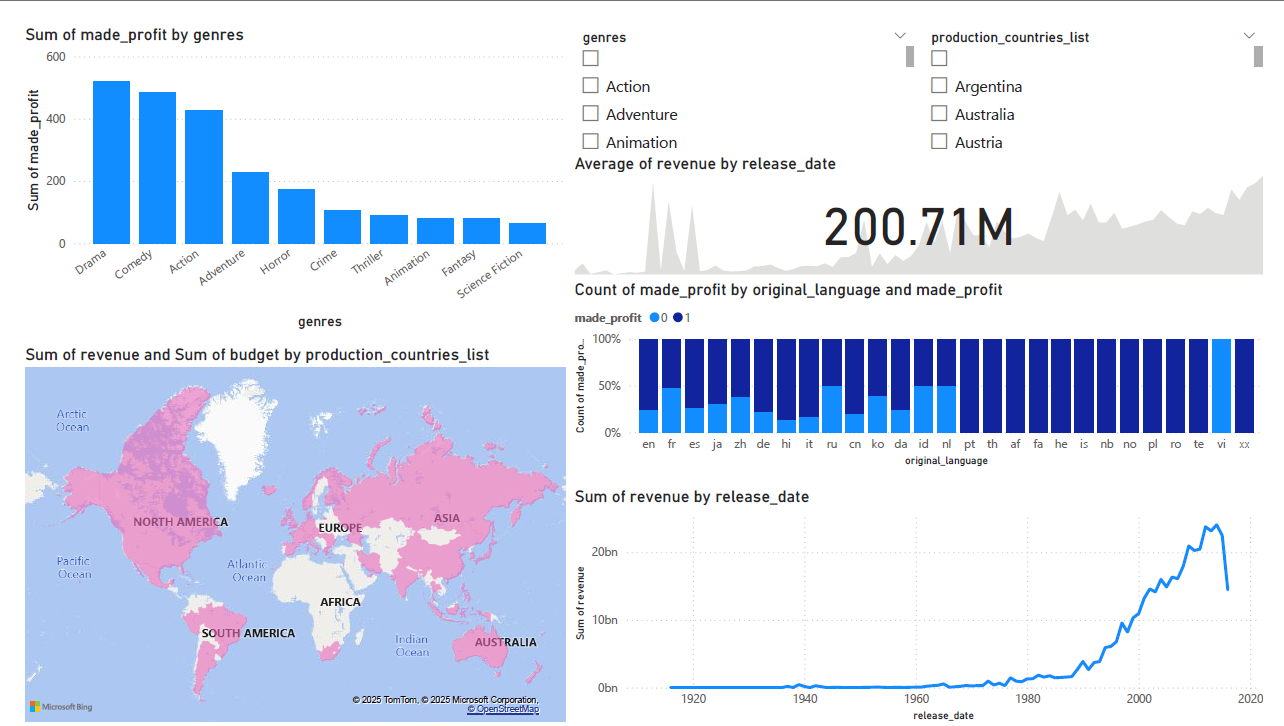

What the dashboard file says about the page in this screenshot:
{"tool":"powerbi","page":{"name":"Page 1","canvas":[1280,720],"ordinal":0},"visuals":[{"type":"clusteredColumnChart","fields":{"Y":["Sum(final_movies_dashboard_dataset.made_profit)"],"Category":["final_movies_dashboard_dataset.genres"]},"box":[0,0,564,318],"z":0},{"type":"filledMap","fields":{"Category":["final_movies_dashboard_dataset.production_countries_list"]},"box":[0,328,564,392],"z":1000},{"type":"hundredPercentStackedColumnChart","fields":{"Category":["final_movies_dashboard_dataset.original_language"],"Y":["CountNonNull(final_movies_dashboard_dataset.made_profit)"],"Series":["final_movies_dashboard_dataset.made_profit"]},"box":[564,262,716,196],"z":2000},{"type":"lineChart","fields":{"Category":["final_movies_dashboard_dataset.release_date"],"Y":["Sum(final_movies_dashboard_dataset.revenue)"]},"box":[564,474,716,246],"z":3000},{"type":"slicer","fields":{"Values":["final_movies_dashboard_dataset.genres"]},"box":[564,0,358,132],"z":4000},{"type":"slicer","fields":{"Values":["final_movies_dashboard_dataset.production_countries_list"]},"box":[922,0,358,132],"z":4001},{"type":"kpi","fields":{"Indicator":["Avg(final_movies_dashboard_dataset.revenue)"],"TrendLine":["final_movies_dashboard_dataset.release_date"]},"box":[564,132,716,130],"z":4002}]}

Visuals, with their boxes in screenshot pixels (x1, y1, x2, y2), scaled from the page's 1280x720 canvas onto the 1284x726 screenshot:
clusteredColumnChart - Sum(final_movies_dashboard_dataset.made_profit) x final_movies_dashboard_dataset.genres: 0, 0, 566, 321
filledMap - final_movies_dashboard_dataset.production_countries_list: 0, 331, 566, 725
hundredPercentStackedColumnChart - final_movies_dashboard_dataset.original_language x CountNonNull(final_movies_dashboard_dataset.made_profit): 566, 264, 1283, 462
lineChart - final_movies_dashboard_dataset.release_date x Sum(final_movies_dashboard_dataset.revenue): 566, 478, 1283, 725
slicer - final_movies_dashboard_dataset.genres: 566, 0, 925, 133
slicer - final_movies_dashboard_dataset.production_countries_list: 925, 0, 1283, 133
kpi - Avg(final_movies_dashboard_dataset.revenue) x final_movies_dashboard_dataset.release_date: 566, 133, 1283, 264
